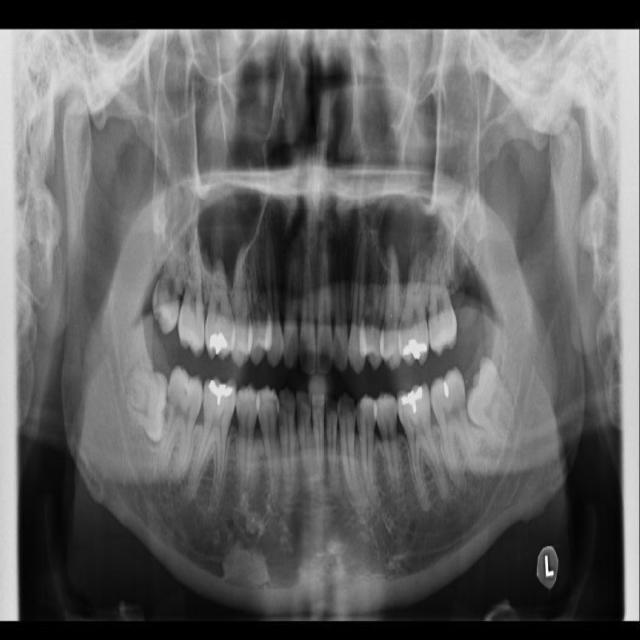Caries: (167, 379, 183, 407)
Filling: (399, 321, 429, 367), (207, 378, 235, 407), (204, 329, 229, 358), (400, 384, 424, 413), (440, 378, 452, 400)
impacted tooth: (467, 358, 514, 440), (123, 368, 166, 439)
